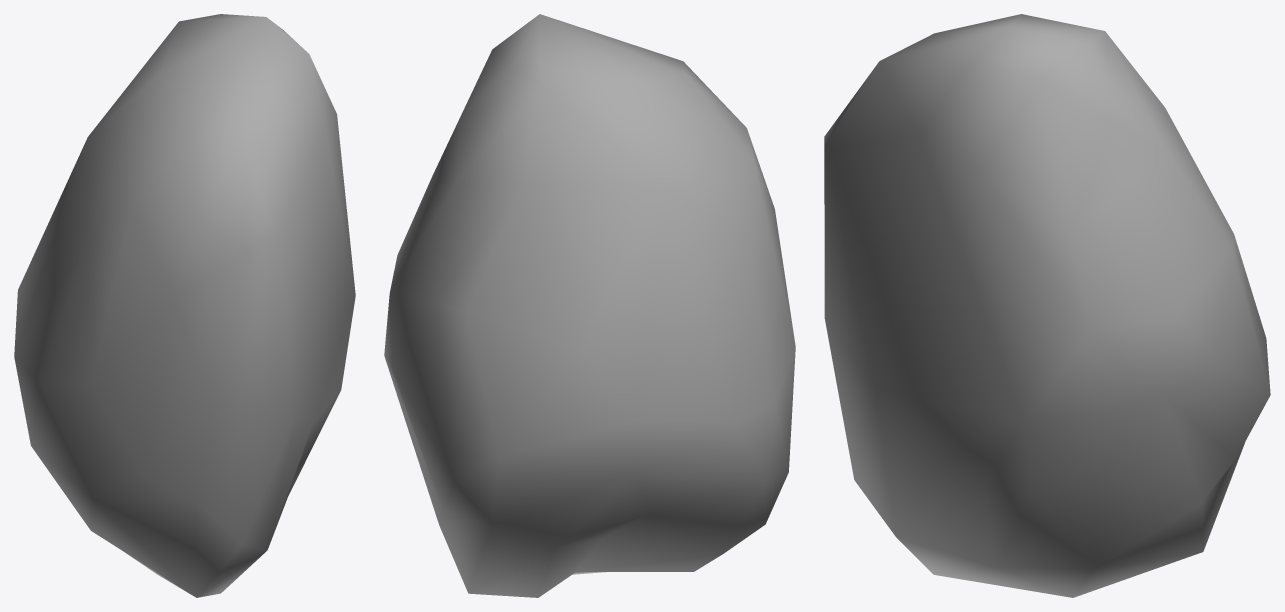
File: SoftRock_15.fbx
The picture shows the model from 3 angles, left to right: view 1: azimuth 30°, elevation 25°; view 2: azimuth 150°, elevation 25°; view 3: azimuth 270°, elevation 25°; orthographic projection. The views are drawn at different scales.
Visible parts, largest first — view 1: SoftRock_15; view 2: SoftRock_15; view 3: SoftRock_15.
Boxes of the visible parts, bbox=[...] form: SoftRock_15: bbox=[14, 14, 355, 597]; SoftRock_15: bbox=[384, 14, 795, 597]; SoftRock_15: bbox=[824, 14, 1270, 597].
Bounding box in the file's own units: 68.77 × 107 × 73.52.
